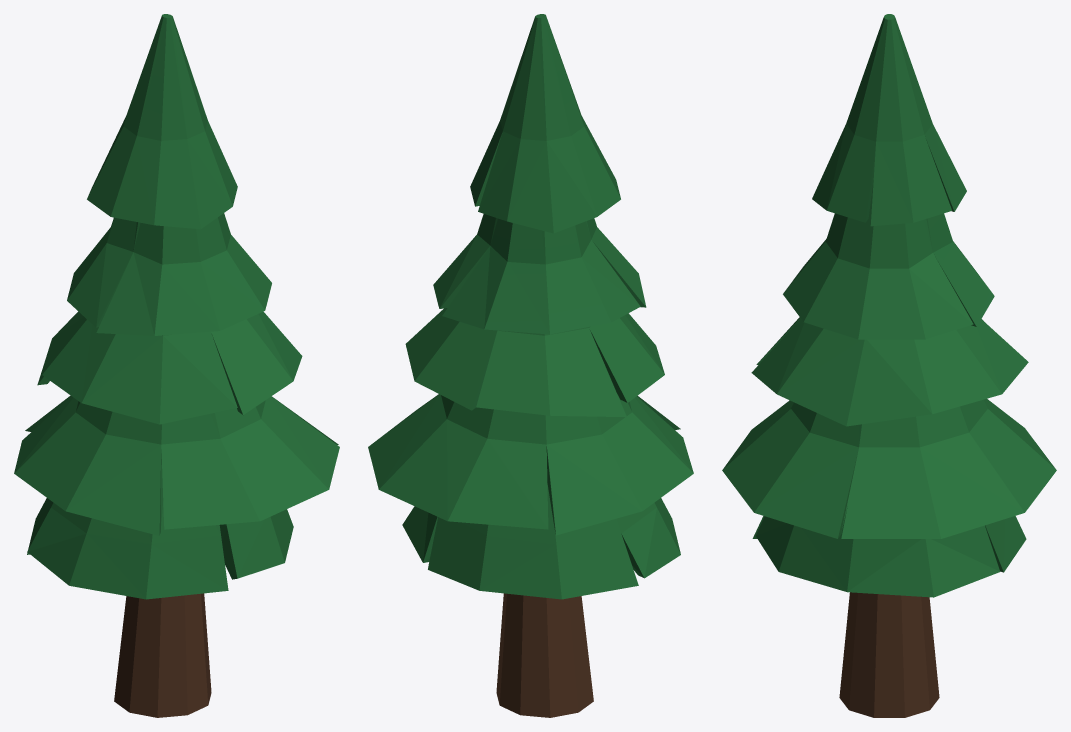
Rendered from Tree_1.fbx.
3 renders of one model, left to right at view 1: azimuth 30°, elevation 25°; view 2: azimuth 150°, elevation 25°; view 3: azimuth 270°, elevation 25°, orthographic.
Visible parts, largest first — view 1: M_Tree 1; view 2: M_Tree 1; view 3: M_Tree 1.
Boxes of the visible parts, left/top/right/bottom form: M_Tree 1: left=14, top=14, right=339, bottom=717; M_Tree 1: left=368, top=14, right=693, bottom=717; M_Tree 1: left=722, top=14, right=1056, bottom=717.
Size of the model in its own units: 0.989 by 2.33 by 1.04.
1 material, 1 textured.
